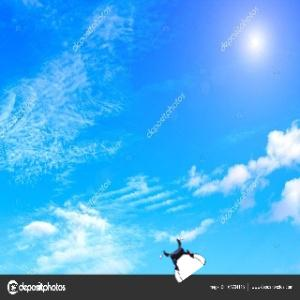drone: (162, 239, 202, 279)
